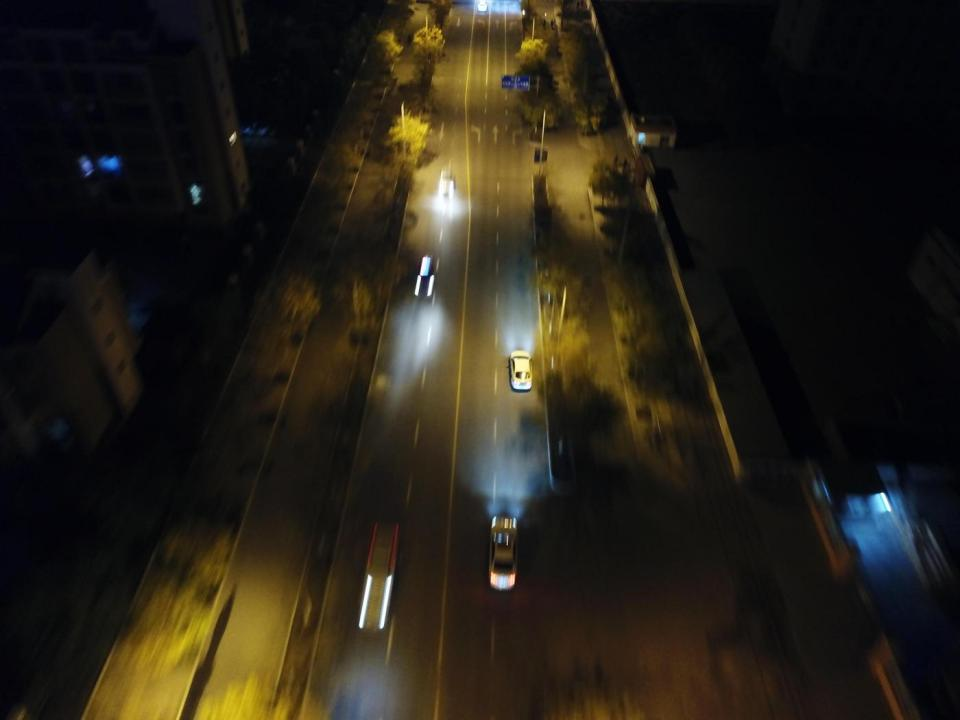car: (352, 521, 399, 630), (486, 516, 518, 589), (414, 255, 436, 295), (510, 350, 532, 389), (439, 169, 456, 191), (478, 1, 486, 10)
